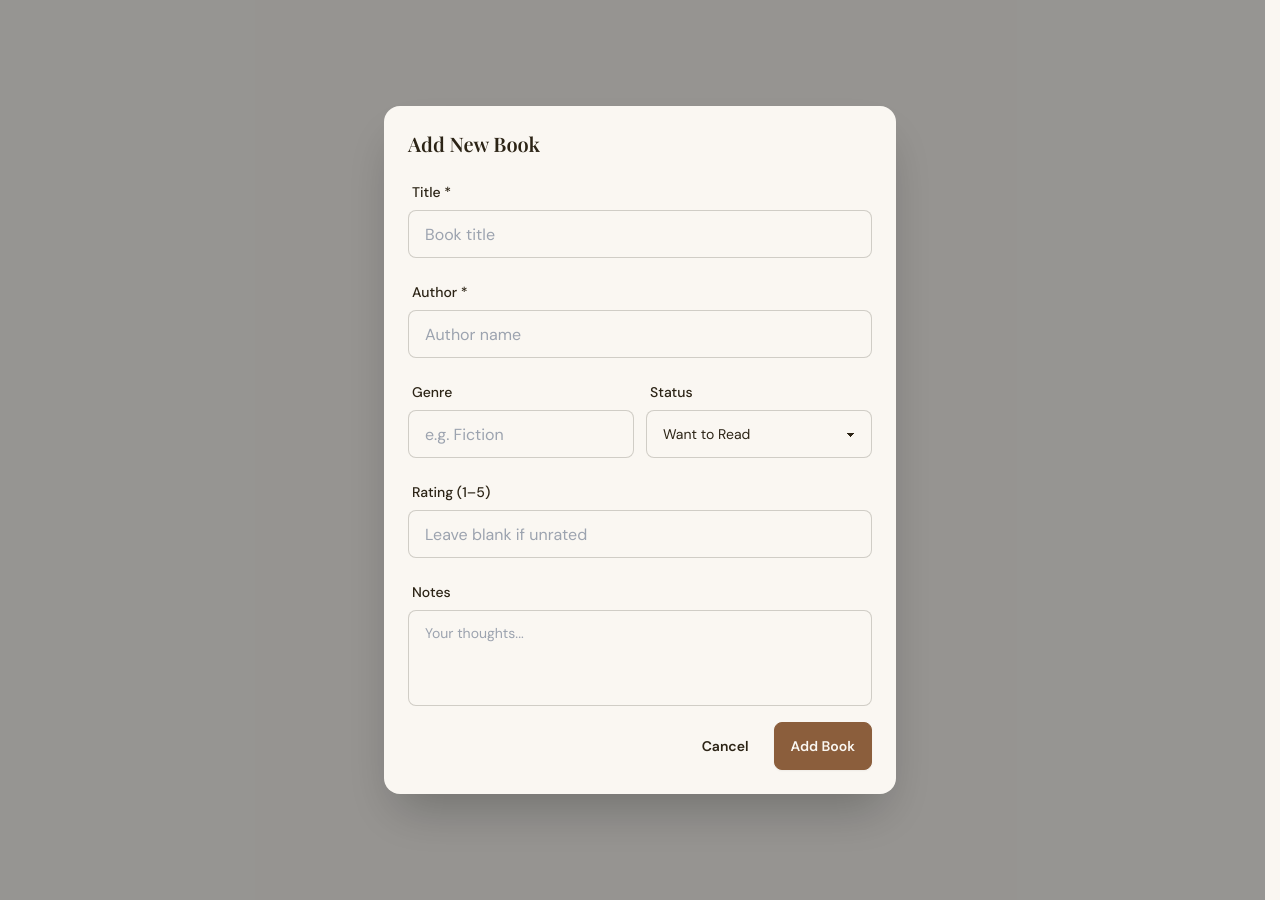
Test: BookModal Component Unit Tests › Form Validation › should display an error if the title field is empty on submission
This screenshot has width=1280, height=900.
Type "Some Author" into the field labelled "Author *" at (640,334), box [408,310,872,358]
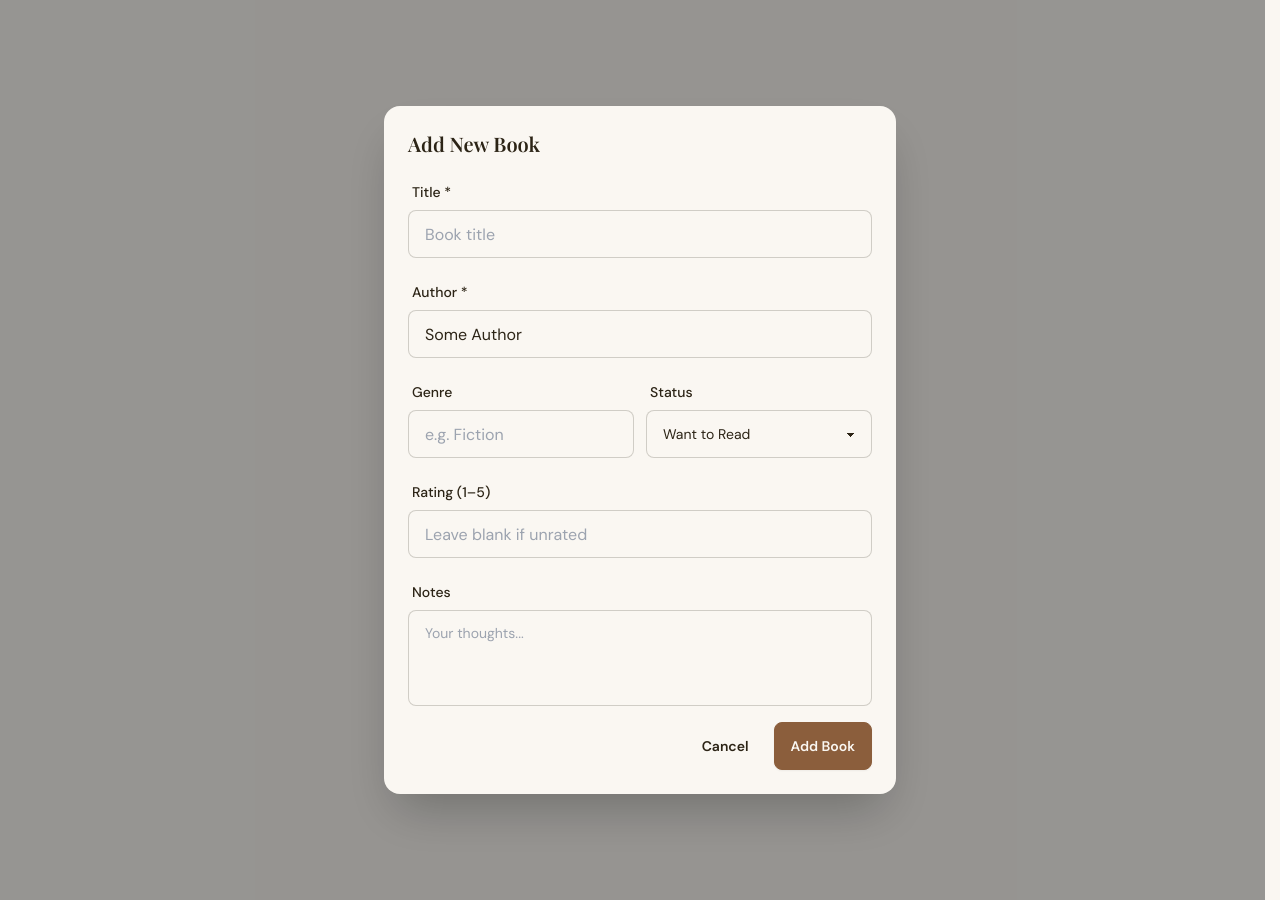
Click the button "Add Book" at (823,746), box [774,722,872,770]
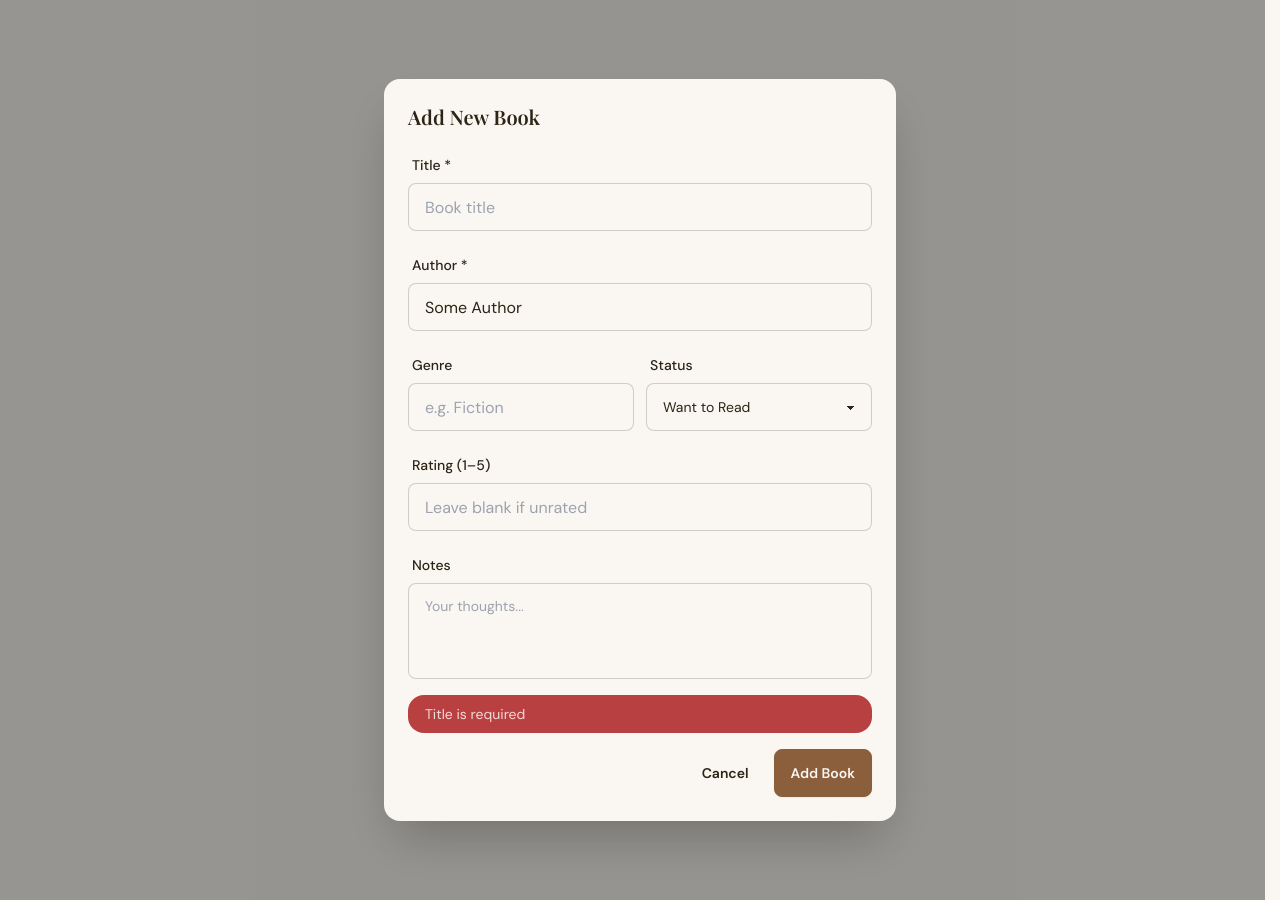
Check: the message reads "Title is required", box [425,705,525,723]
